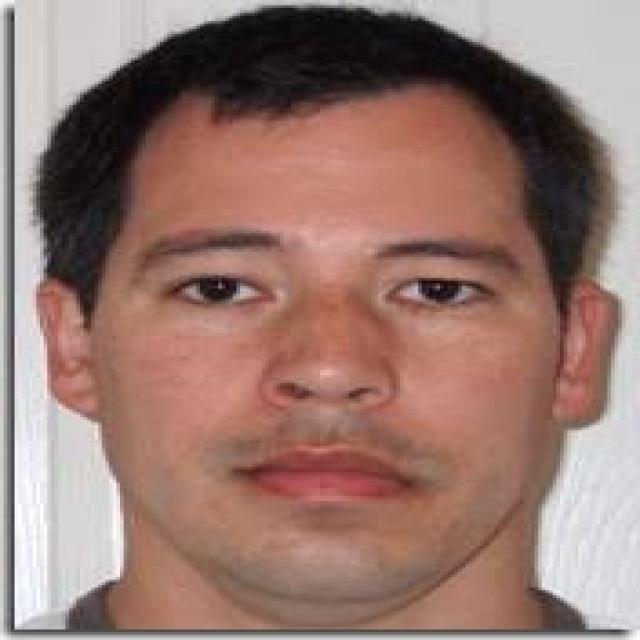stroke_face: (43, 53, 602, 609)
